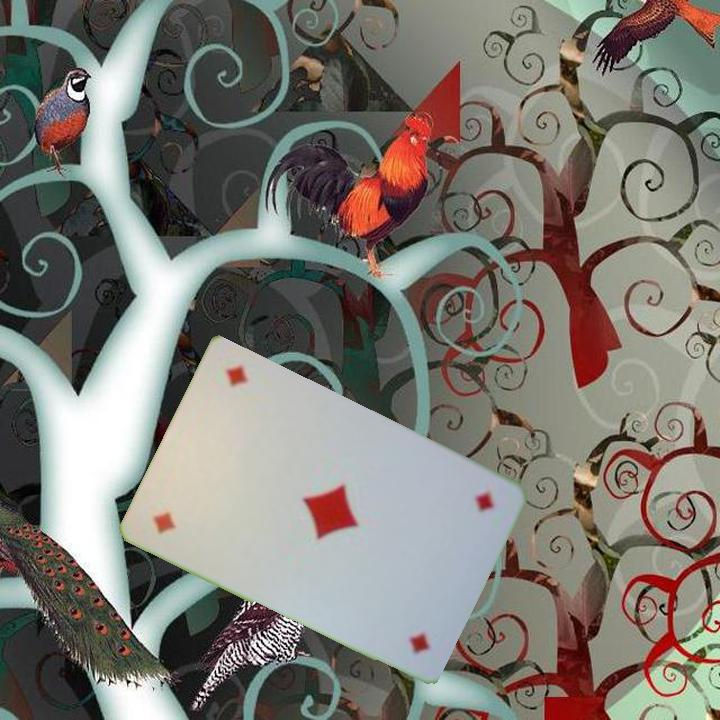d_a.png: (390, 459, 509, 585), (137, 440, 256, 565)
